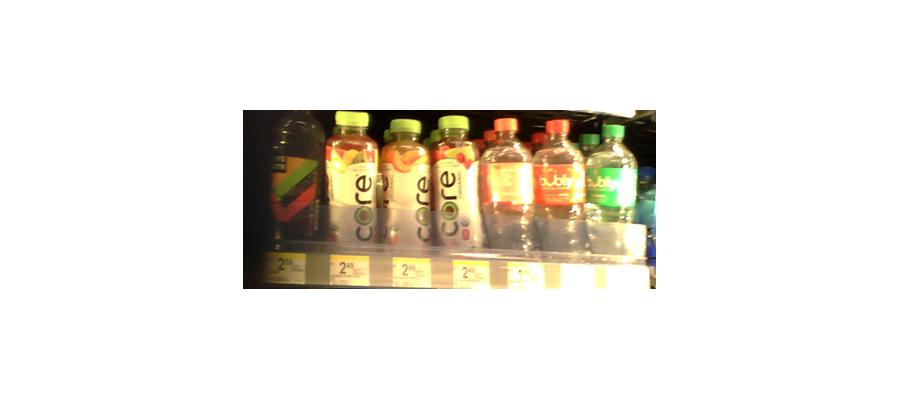bottle: (327, 109, 381, 252), (429, 113, 483, 254), (532, 116, 586, 257), (481, 114, 533, 258), (587, 119, 636, 259), (273, 105, 321, 247), (380, 117, 430, 252)
